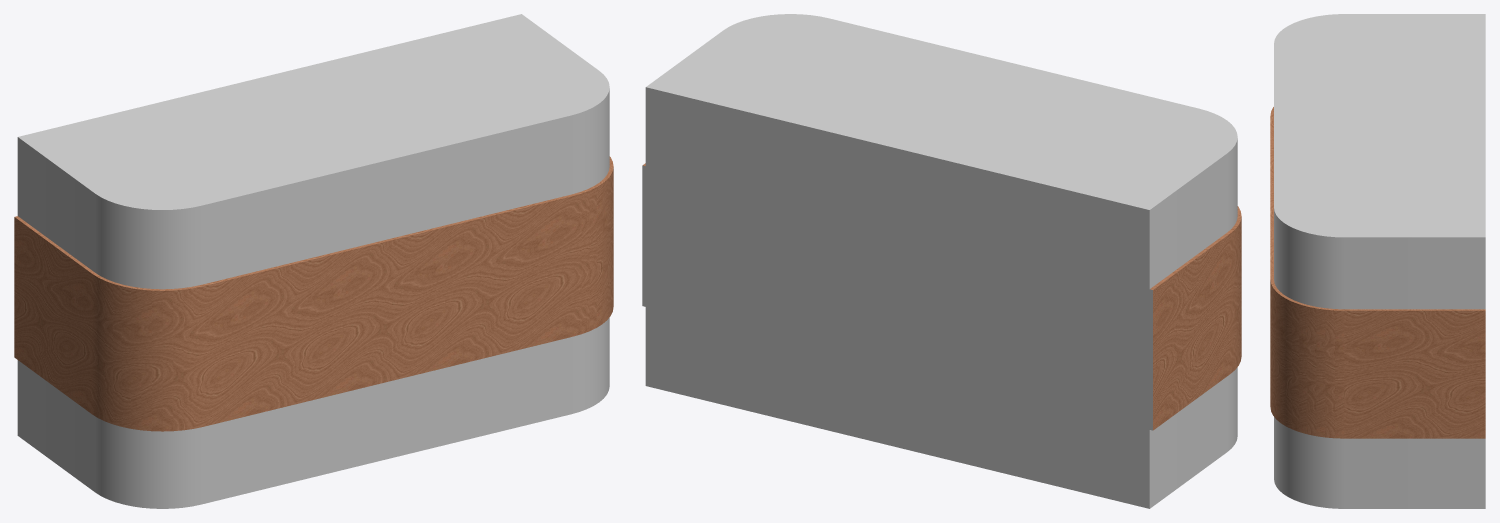
File: counter-type-yp03.glb
3 views of the same model, side by side, from view 1: azimuth 30°, elevation 25°; view 2: azimuth 150°, elevation 25°; view 3: azimuth 270°, elevation 25° (orthographic). The views are drawn at different scales.
Parts seen in each view (by area): view 1: 3DGeom-1, 3DGeom-2; view 2: 3DGeom-1, 3DGeom-2; view 3: 3DGeom-1, 3DGeom-2.
Part boxes in pixels (box(x1,y1,x2,y2)): 3DGeom-1: box(17, 14, 609, 508); 3DGeom-2: box(14, 156, 613, 431); 3DGeom-1: box(642, 14, 1237, 508); 3DGeom-2: box(643, 163, 1241, 430); 3DGeom-1: box(1274, 14, 1485, 508); 3DGeom-2: box(1270, 107, 1485, 438).
Size of the model in its own units: 1.52 by 0.85 by 0.61.
Materials: 1 (1 with a texture image).
